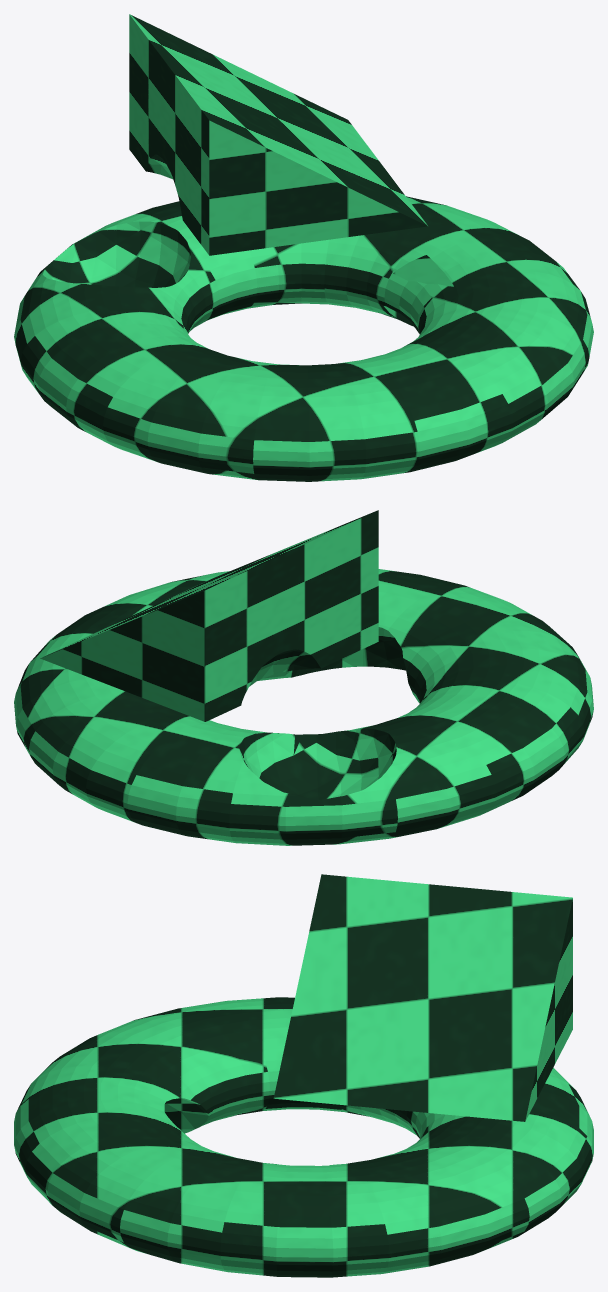
3 views of the same model, one above another, from view 1: azimuth 30°, elevation 25°; view 2: azimuth 150°, elevation 25°; view 3: azimuth 270°, elevation 25° (orthographic). The views are drawn at different scales.
Parts seen in each view (by area): view 1: geometry_0; view 2: geometry_0; view 3: geometry_0.
Boxes of the visible parts, x1,y1,x2,y2 form: geometry_0: [14, 14, 593, 481]; geometry_0: [14, 510, 593, 845]; geometry_0: [14, 874, 593, 1277].
Size of the model in its own units: 1.73 by 0.8915 by 1.76.
Materials: 1 (1 with a texture image).
